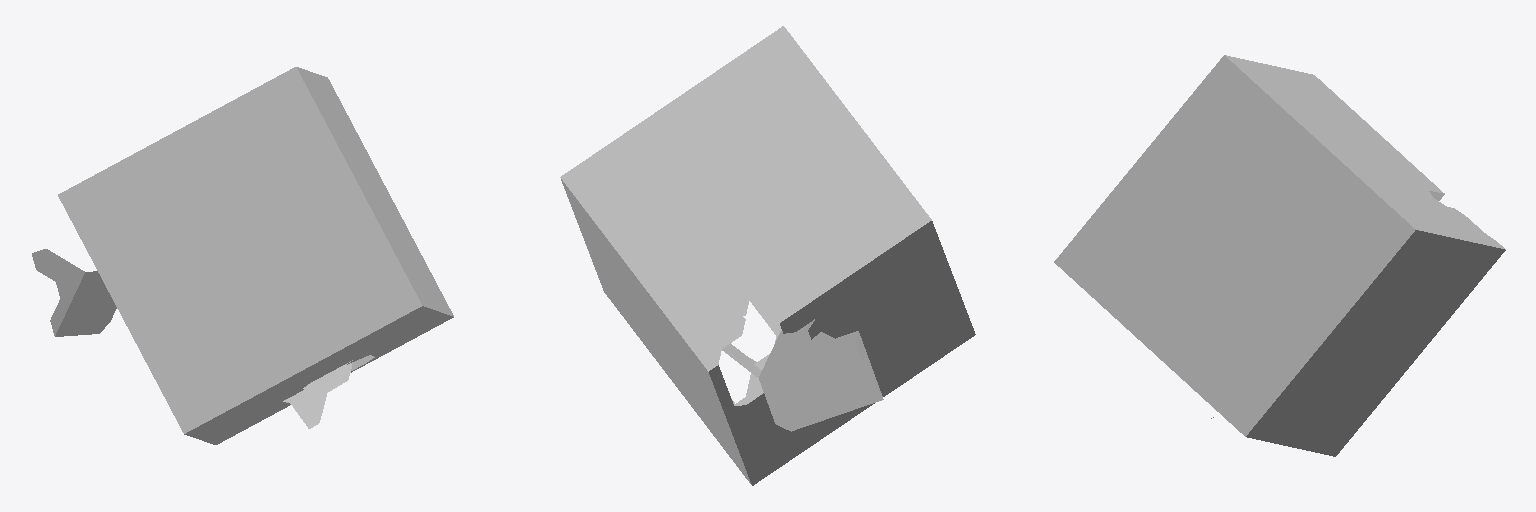
Rendered from explode_000003.obj.
3 renders of one model, left to right at view 1: azimuth 30°, elevation 25°; view 2: azimuth 150°, elevation 25°; view 3: azimuth 270°, elevation 25°, orthographic.
Visible parts, largest first — view 1: Cube_Cube.001; view 2: Cube_Cube.001; view 3: Cube_Cube.001.
Boxes of the visible parts, x1,y1,x2,y2 form: Cube_Cube.001: [32, 67, 453, 444]; Cube_Cube.001: [560, 26, 975, 485]; Cube_Cube.001: [1054, 55, 1505, 456].
Size of the model in its own units: 3.08 by 3.36 by 3.33.